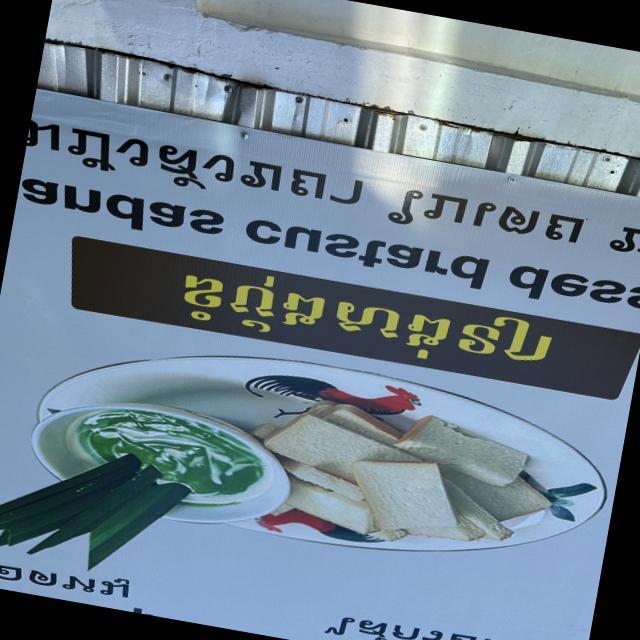Yolov11_80vkh: (171, 259, 567, 380)
